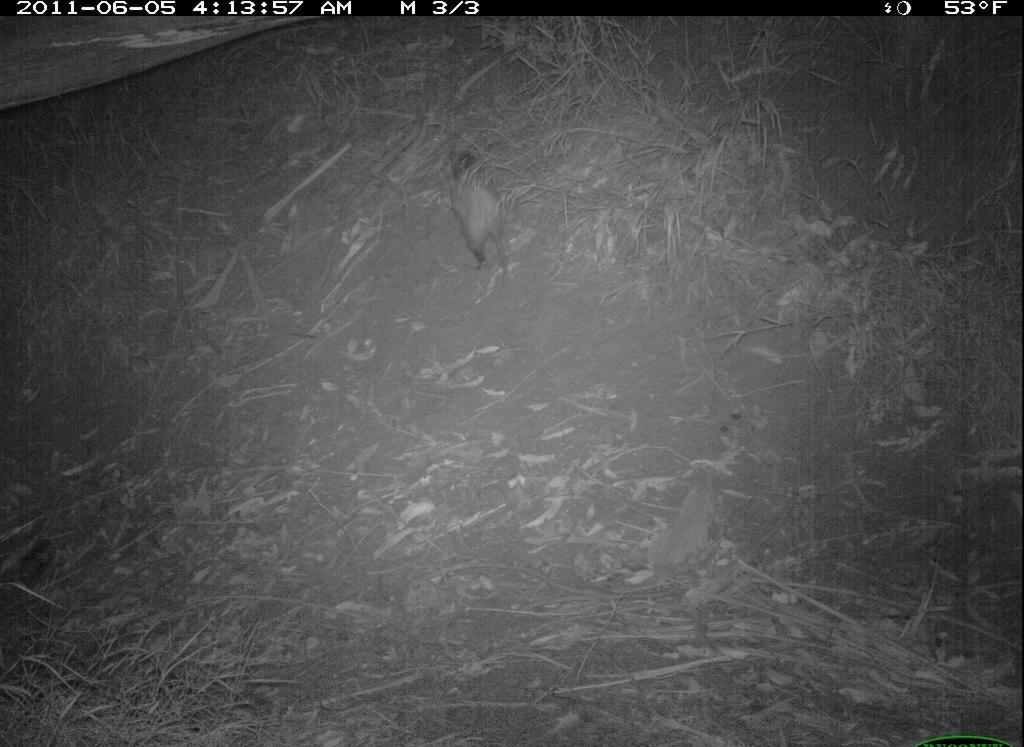opossum: (434, 143, 519, 294)
